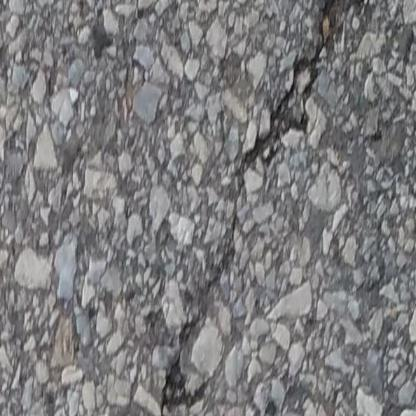Cracks: (230, 0, 346, 218), (160, 227, 238, 410), (121, 412, 170, 416)
